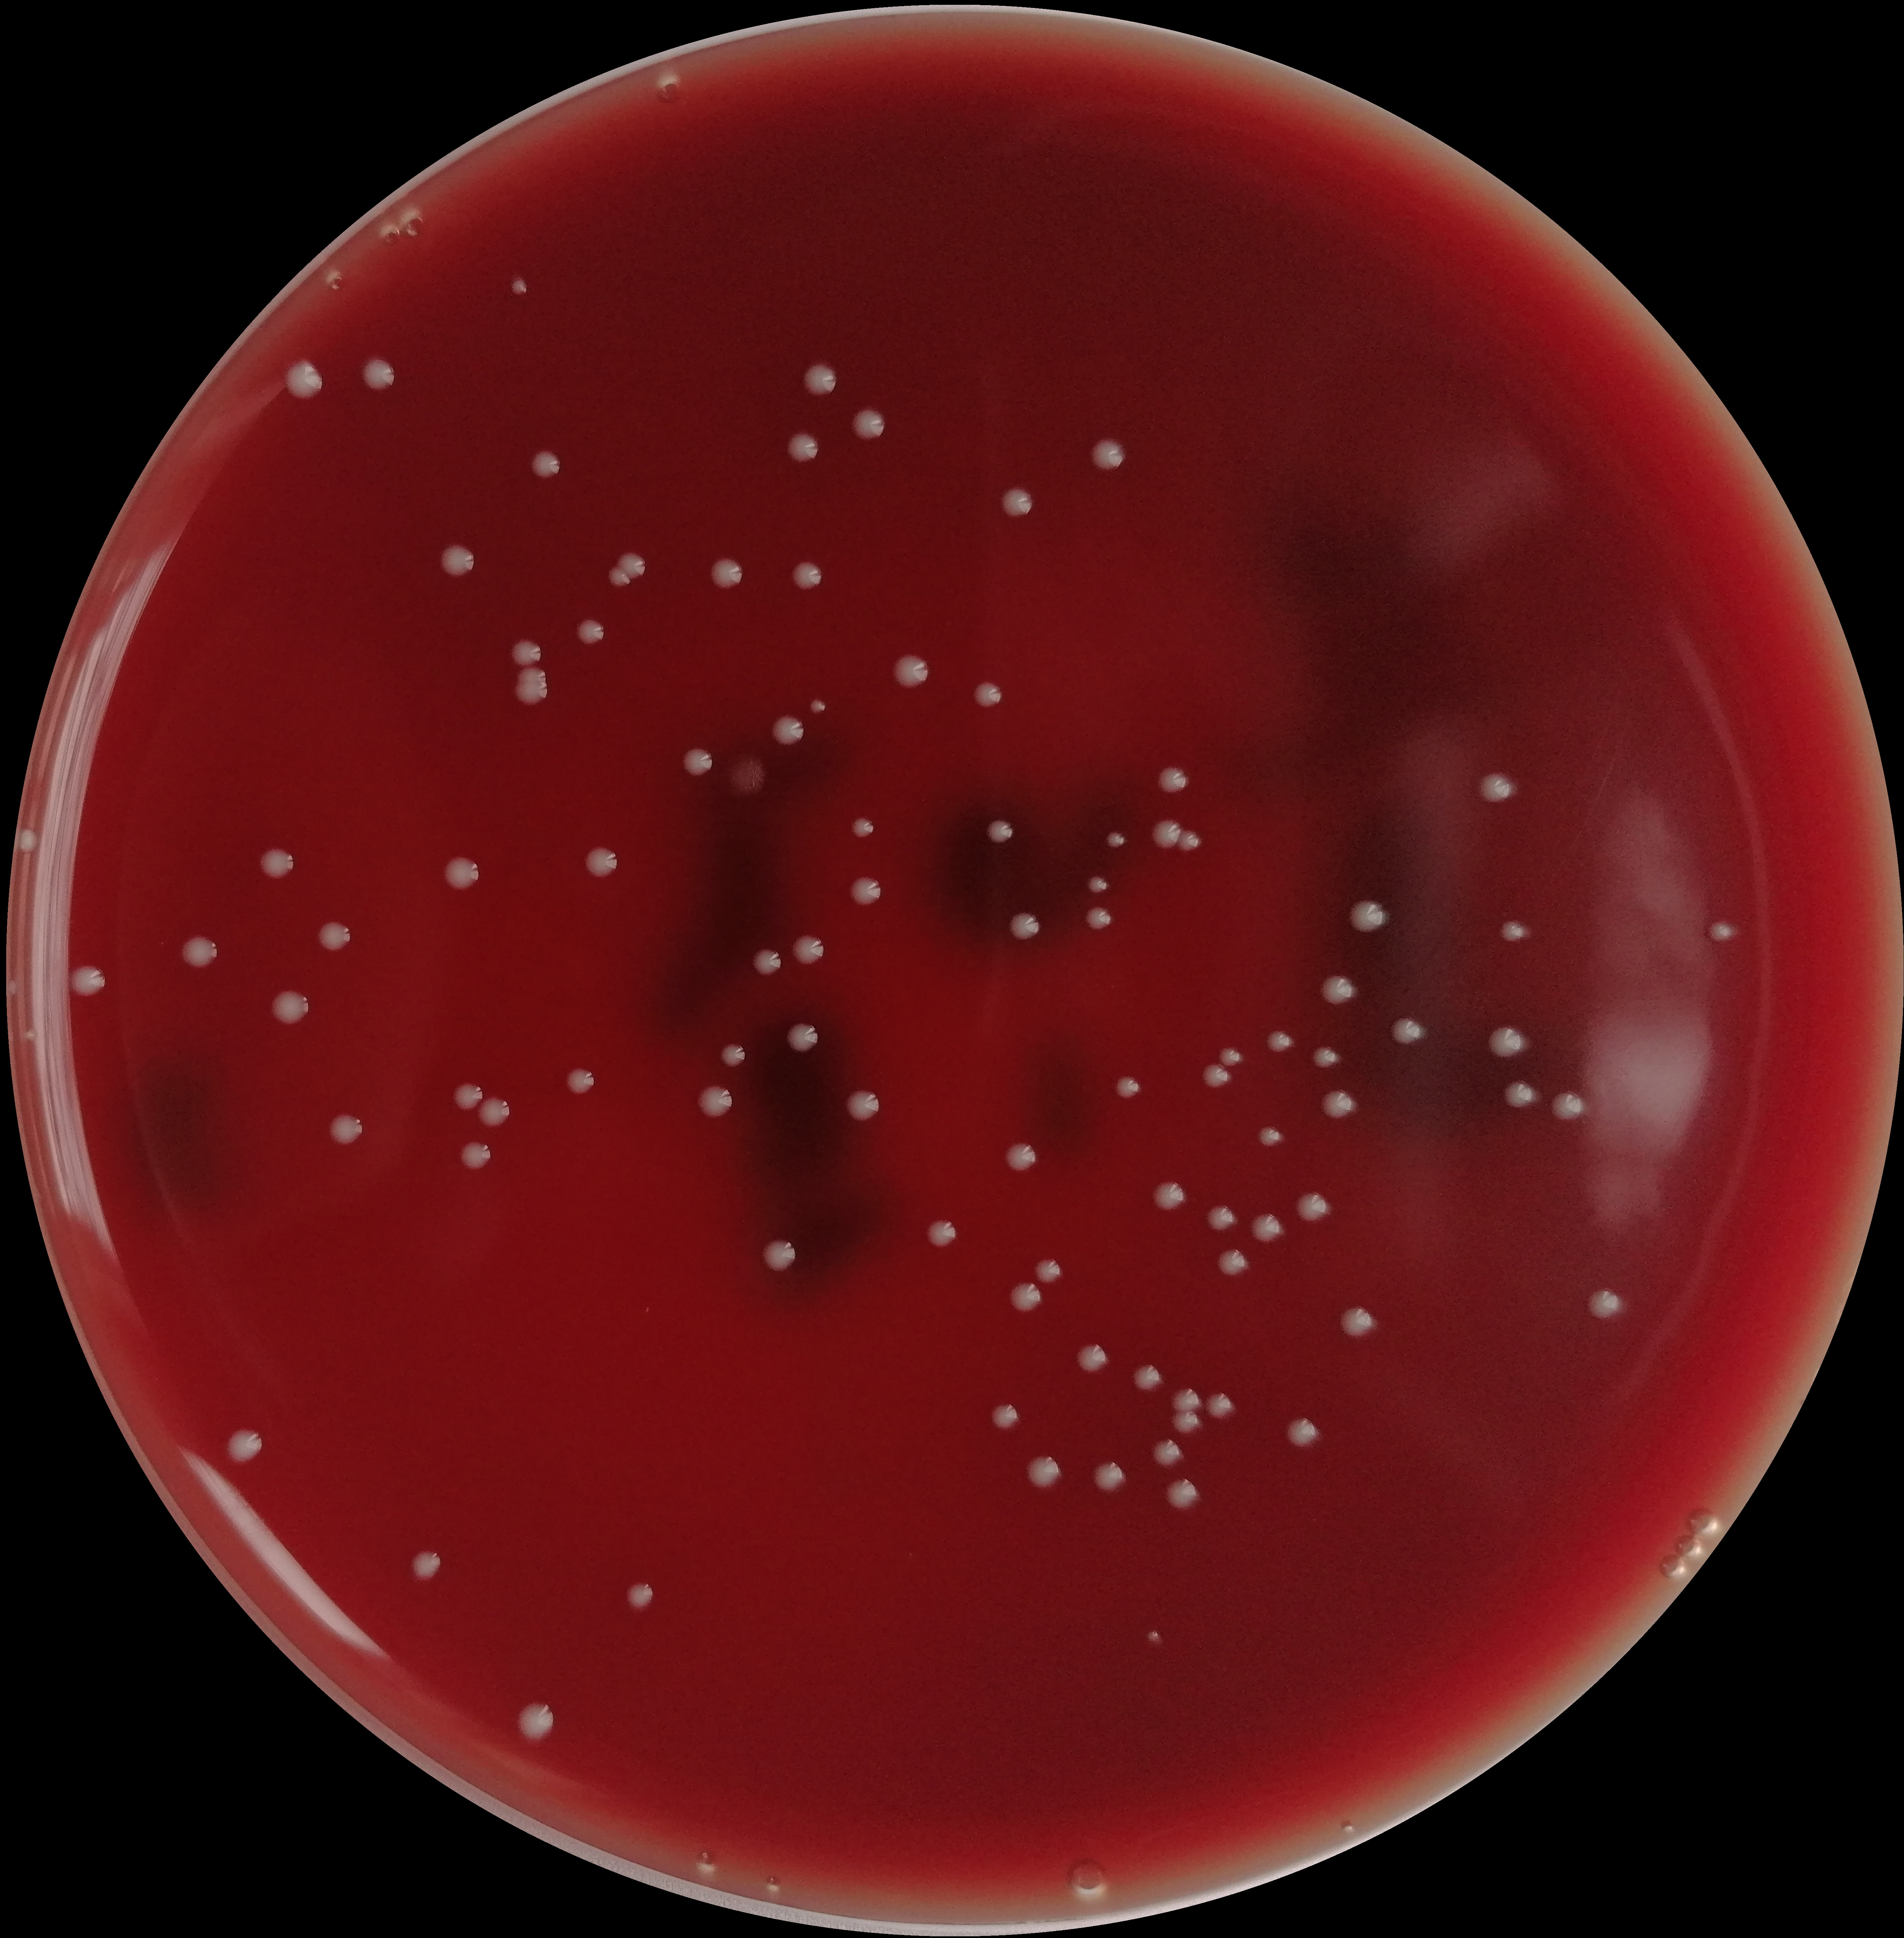sp21: (725, 753, 771, 802), (513, 1699, 556, 1748), (277, 359, 324, 401), (511, 664, 549, 713), (847, 403, 891, 444), (891, 650, 935, 692), (1020, 1452, 1064, 1492), (1344, 898, 1390, 936), (1336, 1302, 1377, 1342), (221, 1424, 262, 1466), (436, 542, 479, 580), (324, 1110, 368, 1149), (267, 990, 312, 1027), (800, 359, 840, 399), (758, 1237, 800, 1276), (439, 854, 481, 892), (256, 844, 298, 882), (178, 934, 221, 971), (357, 356, 398, 394), (1088, 436, 1128, 474), (1318, 969, 1357, 1009), (408, 1548, 446, 1588), (692, 1082, 732, 1121), (70, 962, 110, 1000), (1583, 1284, 1625, 1321), (1484, 1023, 1527, 1058), (1161, 1474, 1201, 1511), (1147, 1178, 1189, 1213), (1201, 1201, 1243, 1236), (314, 918, 356, 953), (473, 1096, 514, 1131), (527, 444, 565, 481), (708, 556, 746, 593), (1384, 1011, 1423, 1047), (582, 845, 621, 882), (1318, 1086, 1358, 1121), (1282, 1413, 1322, 1448), (844, 1086, 881, 1122), (767, 713, 806, 748), (788, 559, 826, 594), (1003, 1140, 1041, 1175), (1088, 1459, 1126, 1494), (455, 1138, 493, 1173), (997, 486, 1037, 519), (783, 1021, 823, 1054), (785, 429, 821, 464), (971, 678, 1008, 713), (1548, 1086, 1583, 1122), (1153, 765, 1191, 798), (1072, 1342, 1111, 1375), (448, 1081, 486, 1114), (1475, 772, 1515, 803), (788, 932, 828, 964), (1006, 908, 1043, 941), (1294, 1190, 1330, 1223), (1248, 1210, 1282, 1246), (624, 1579, 661, 1612), (678, 746, 717, 777), (1214, 1246, 1252, 1277), (1008, 1281, 1046, 1312), (922, 1218, 961, 1250), (1501, 1075, 1534, 1110), (563, 1065, 598, 1098), (849, 875, 884, 908), (1128, 1359, 1165, 1391), (750, 946, 786, 978), (612, 551, 647, 582), (1149, 1438, 1184, 1469), (1079, 903, 1116, 932), (1149, 817, 1180, 850), (989, 1399, 1020, 1433), (1201, 1391, 1233, 1424), (509, 638, 544, 667), (1166, 1408, 1201, 1438), (1029, 1257, 1065, 1284), (1496, 917, 1529, 946), (1200, 1061, 1233, 1091), (572, 619, 607, 647), (1703, 918, 1738, 946), (1262, 1025, 1294, 1054), (1112, 1074, 1146, 1101), (980, 819, 1015, 845), (846, 814, 881, 840), (1214, 1042, 1243, 1070), (1170, 1386, 1200, 1413), (718, 1042, 748, 1068), (1309, 1044, 1341, 1068), (16, 828, 40, 859), (1252, 1124, 1280, 1150), (504, 275, 530, 300), (1085, 873, 1111, 898), (1177, 828, 1201, 854), (603, 566, 631, 589), (1104, 828, 1128, 849), (804, 697, 830, 716), (1142, 1628, 1166, 1645)
